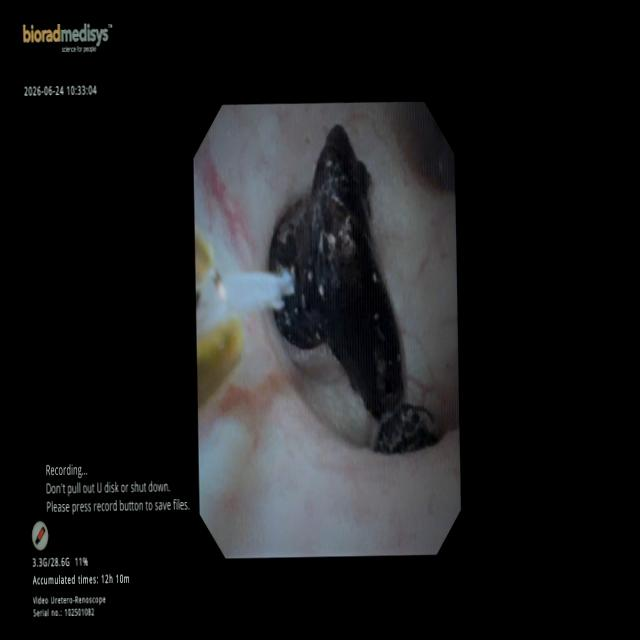stone-new: (268, 124, 437, 452)
